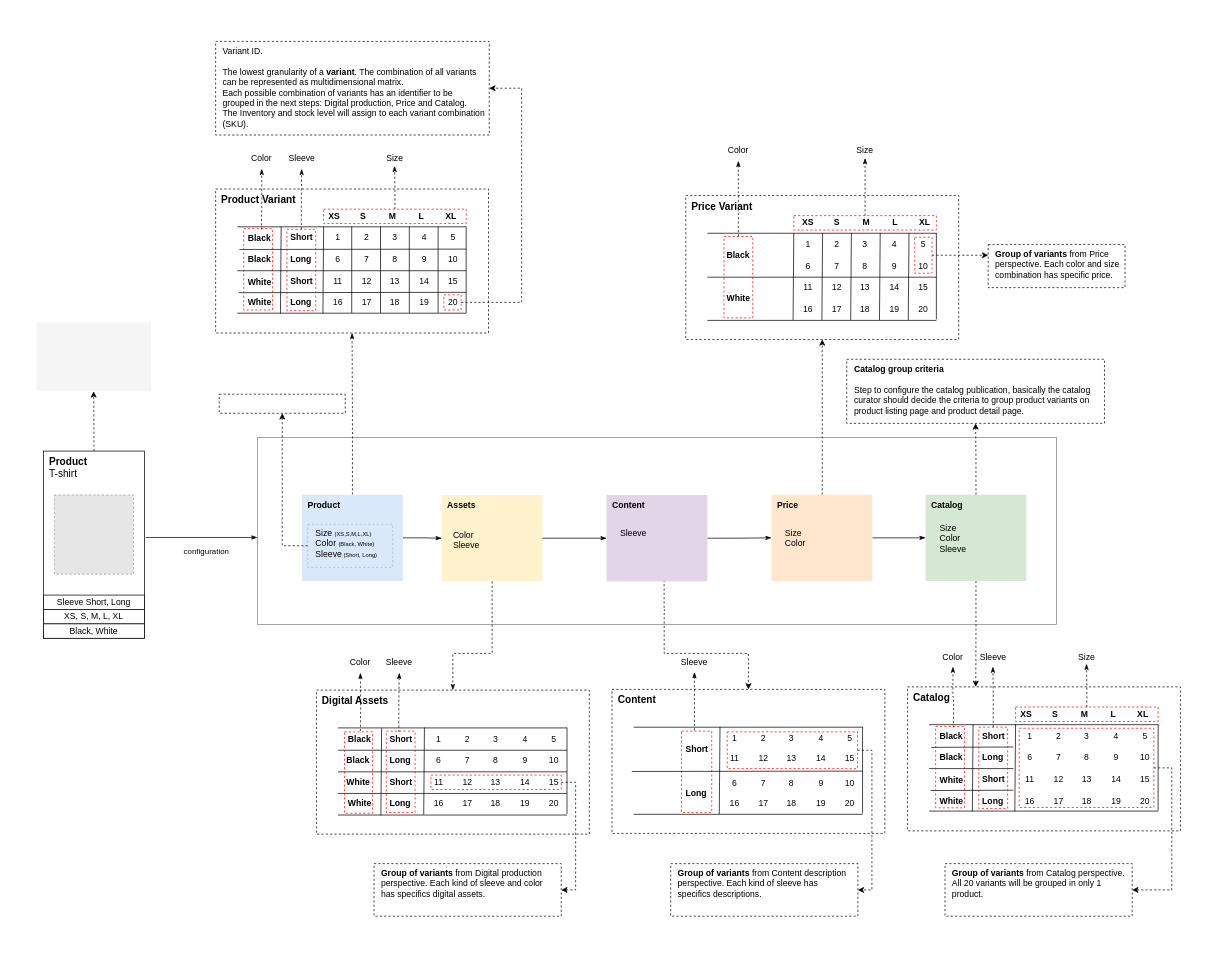
This 1227x953 diagram has some shape labels left out. Grey dashed boxes stand in for pictures. Each missing label, with the centre of its shape:
"1 = product 20 = variants (2 x 2 x 5) 2 - sleeves 2 - colors 5 - sizes" goes at (93,356).
"Variations attributes ." goes at (282,403).
